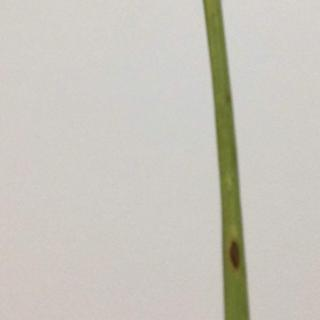Blast: (219, 218, 255, 294)
